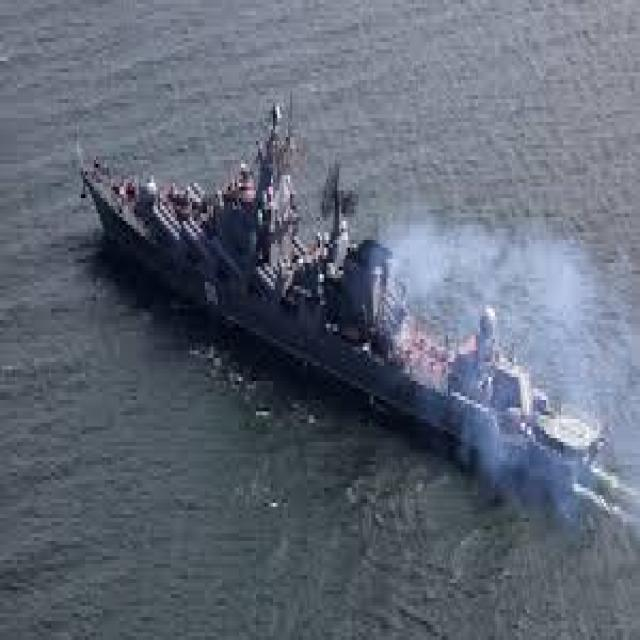navalvessels: (70, 110, 622, 508)
